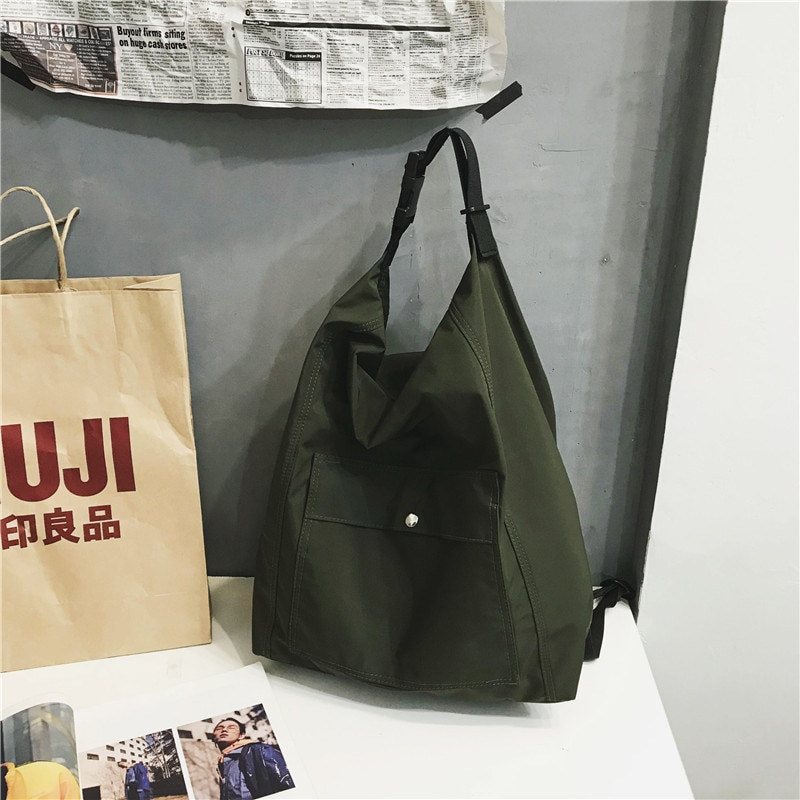Men's Backpacks: (247, 125, 611, 709)
